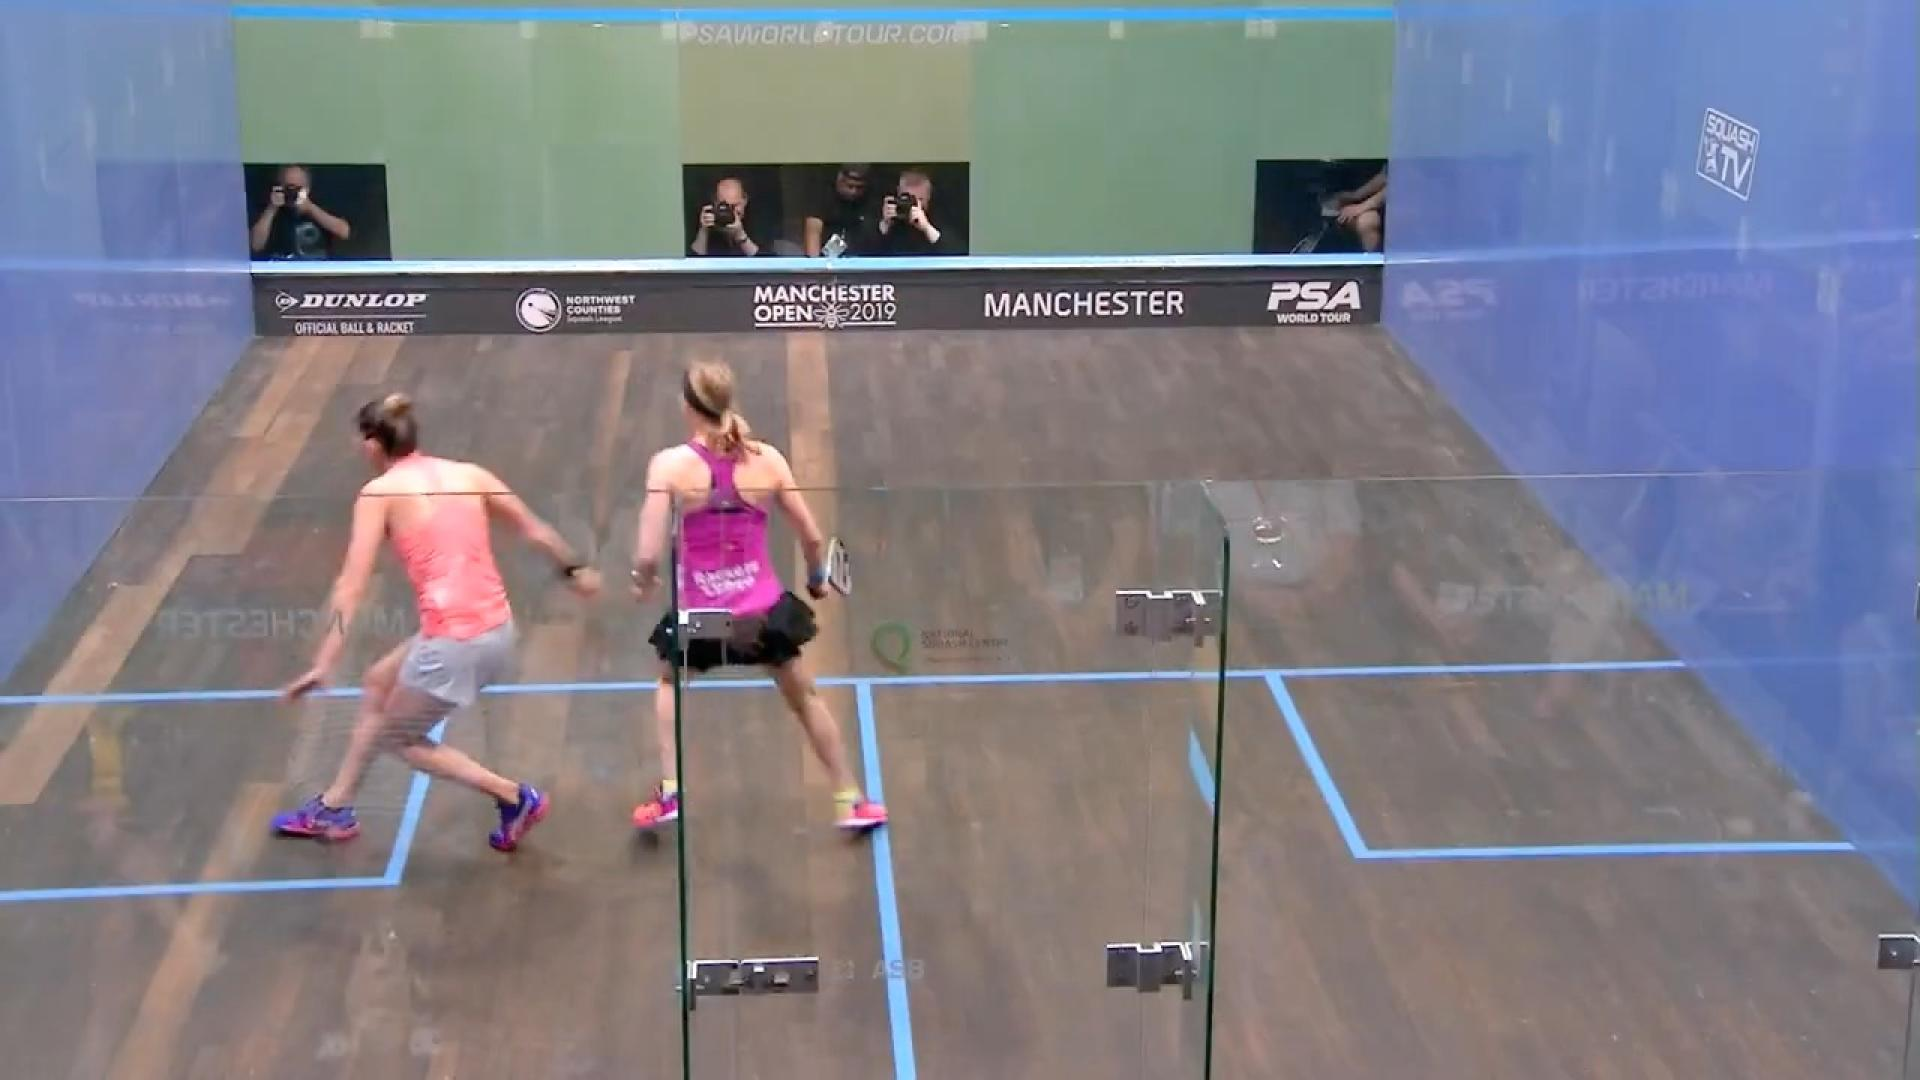Squash-Ball: (285, 162, 318, 232)
